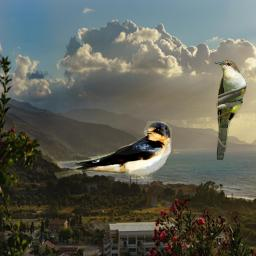Cuckoo: (214, 60, 248, 160)
Swallow: (54, 121, 172, 182)
